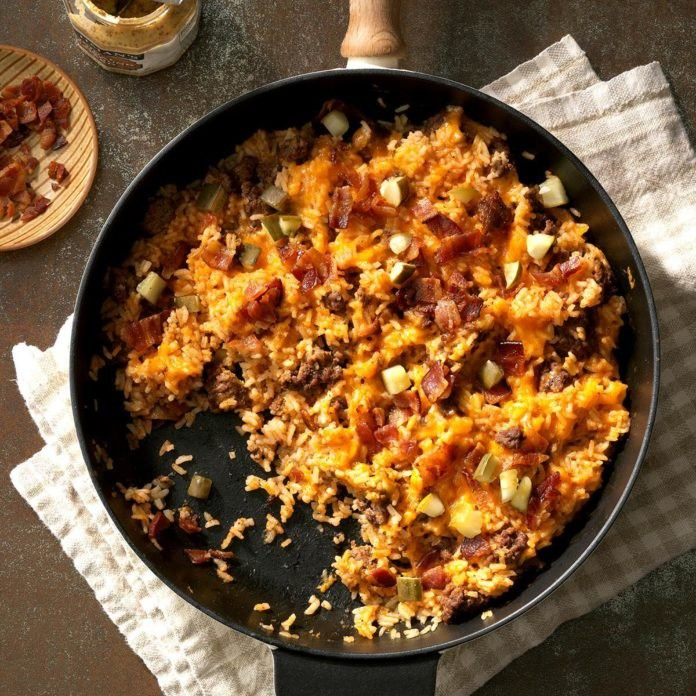bacon: (231, 264, 366, 328), (415, 343, 467, 393)
